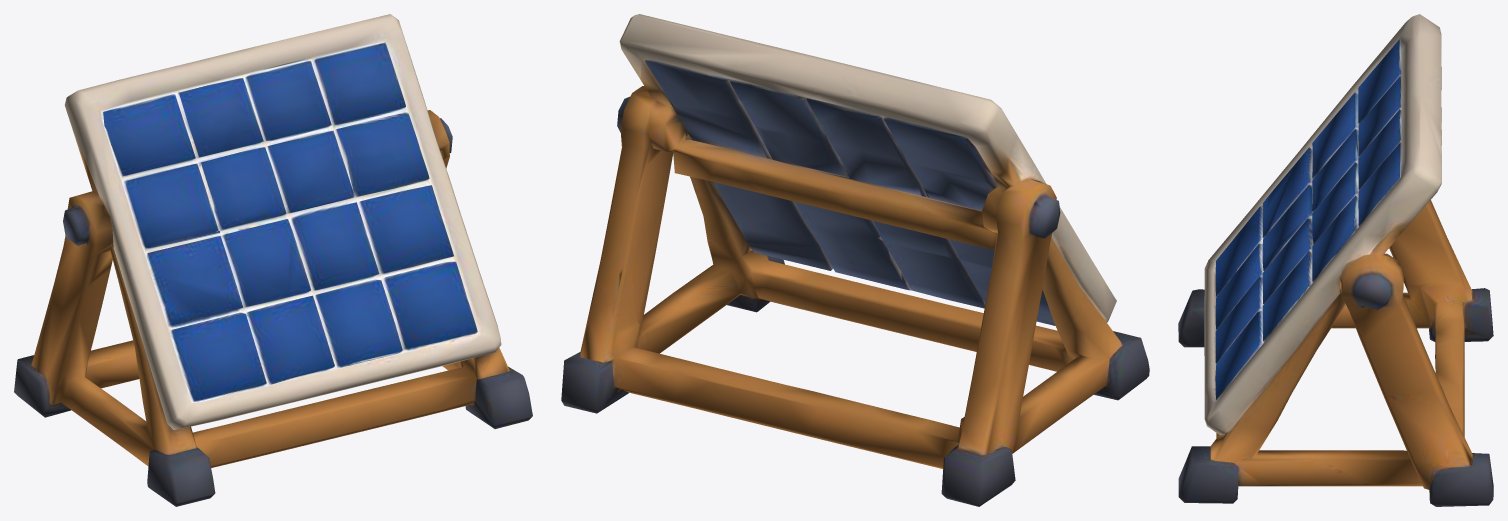
Rendered from solar.glb.
3 renders of one model, left to right at view 1: azimuth 30°, elevation 25°; view 2: azimuth 150°, elevation 25°; view 3: azimuth 270°, elevation 25°, orthographic. The views are drawn at different scales.
Visible parts, largest first — view 1: model; view 2: model; view 3: model.
Part boxes in pixels (x1=…): model: x1=14, y1=14, x2=532, y2=506; model: x1=561, y1=14, x2=1149, y2=506; model: x1=1178, y1=14, x2=1493, y2=506.
Size of the model in its own units: 1.89 by 1.58 by 1.38.
1 material, 1 textured.
